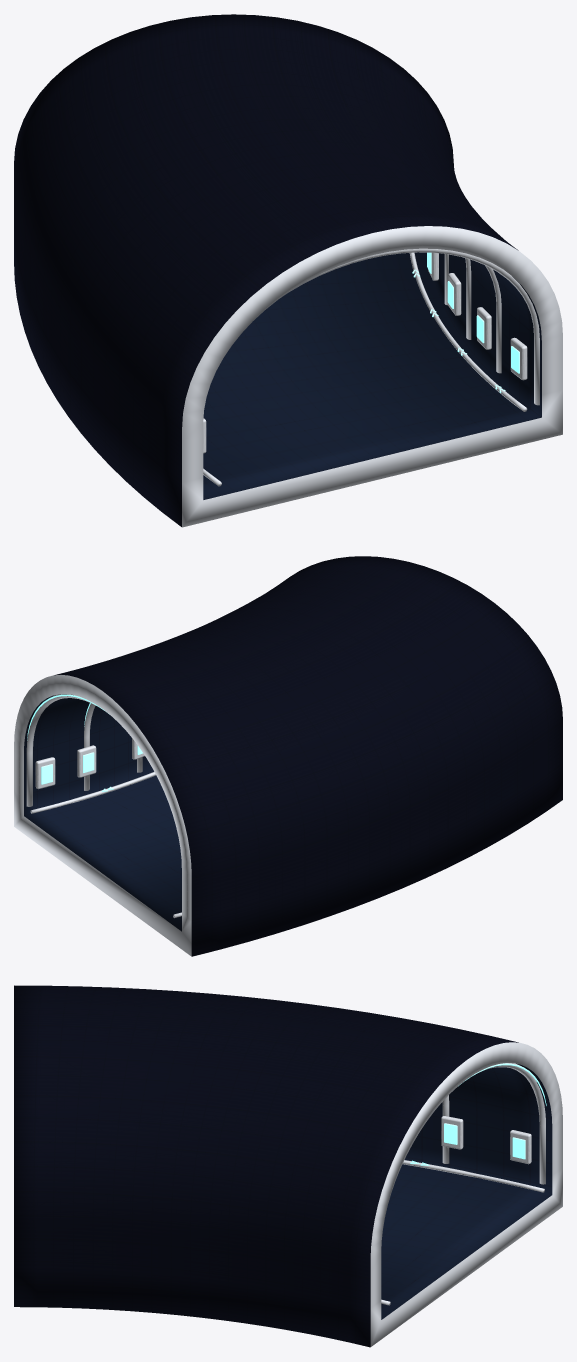
File: curve_right_30.glb
3 renders of one model, top to bottom at view 1: azimuth 30°, elevation 25°; view 2: azimuth 150°, elevation 25°; view 3: azimuth 270°, elevation 25°, orthographic. The views are drawn at different scales.
Visible parts, largest first — view 1: TunnelGeometry; view 2: TunnelGeometry; view 3: TunnelGeometry.
Part boxes in pixels (x1,y1,x2,y2): TunnelGeometry: [14, 14, 562, 527]; TunnelGeometry: [14, 556, 562, 956]; TunnelGeometry: [14, 985, 562, 1347].
Bounding box in the file's own units: 19.1 × 9.52 × 21.83.
Materials: 4 (2 with a texture image).
